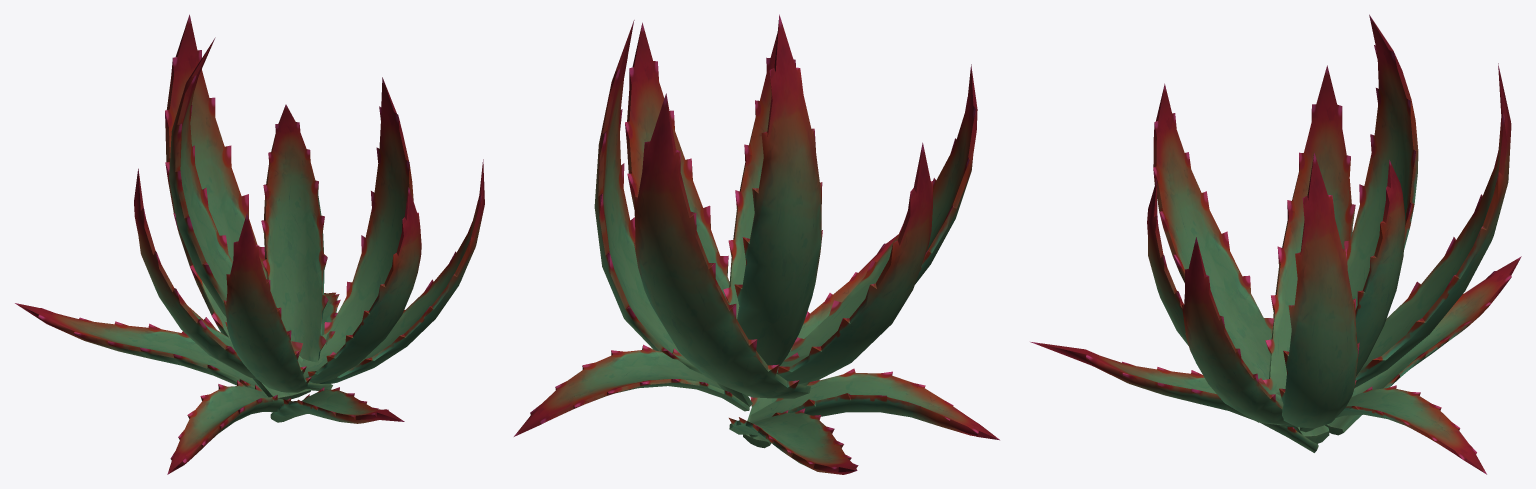
The model's file is DE_Cactus_03.fbx.
The picture shows the model from 3 angles, left to right: view 1: azimuth 30°, elevation 25°; view 2: azimuth 150°, elevation 25°; view 3: azimuth 270°, elevation 25°; orthographic projection. The views are drawn at different scales.
Parts seen in each view (by area): view 1: DE_Cactus_03; view 2: DE_Cactus_03; view 3: DE_Cactus_03.
Part boxes in pixels (left/top/right/bottom): DE_Cactus_03: left=15, top=14, right=484, bottom=474; DE_Cactus_03: left=514, top=14, right=999, bottom=474; DE_Cactus_03: left=1030, top=14, right=1521, bottom=474.
Bounding box in the file's own units: 2.88 × 3.19 × 3.43.
